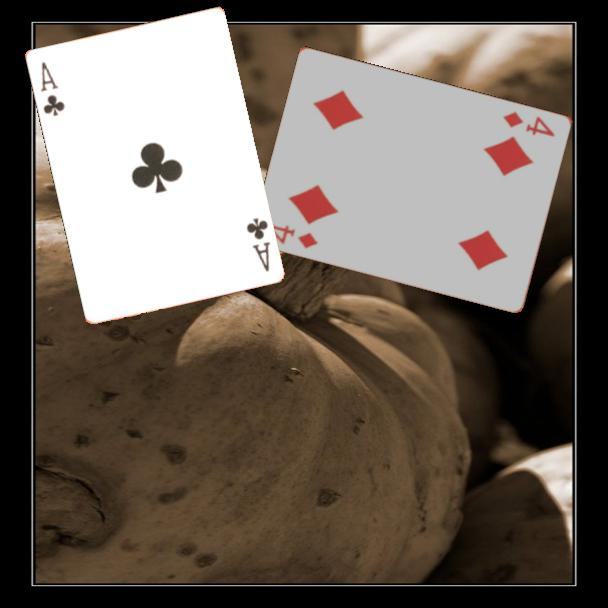c01: (242, 214, 273, 274), (37, 58, 67, 119)
d04: (500, 108, 558, 139), (263, 220, 321, 251)
